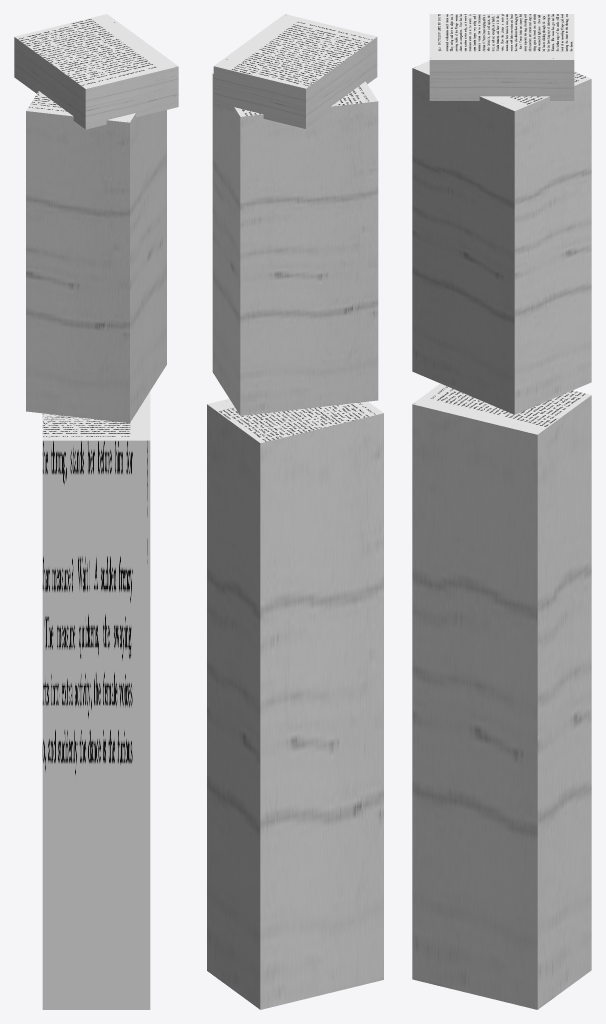
Rendered from Paper.obj.
3 renders of one model, left to right at view 1: azimuth 30°, elevation 25°; view 2: azimuth 150°, elevation 25°; view 3: azimuth 270°, elevation 25°, orthographic.
Parts seen in each view (by area): view 1: Paper; view 2: Paper; view 3: Paper.
Boxes of the visible parts, box(x1,y1,x2,y2) form: Paper: box(14, 14, 178, 1009); Paper: box(207, 14, 383, 1009); Paper: box(412, 14, 591, 1009).
Size of the model in its own units: 0.9899 by 5.72 by 0.9928.
